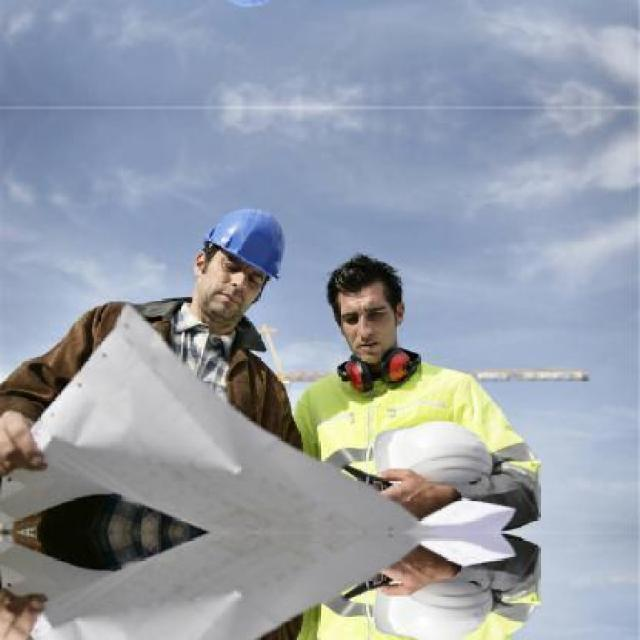Reflective-Jacket: (288, 357, 554, 498)
Safety-Helmet: (192, 202, 297, 286)
